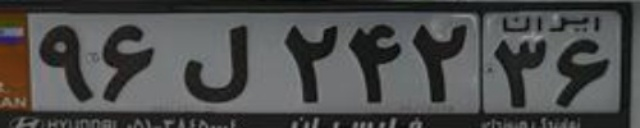2: (280, 23, 343, 103), (410, 22, 466, 105)
3: (490, 39, 547, 109)
4: (349, 23, 402, 103)
6: (100, 22, 154, 102), (550, 39, 611, 107)
9: (36, 23, 96, 101)
lam: (179, 23, 251, 101)
